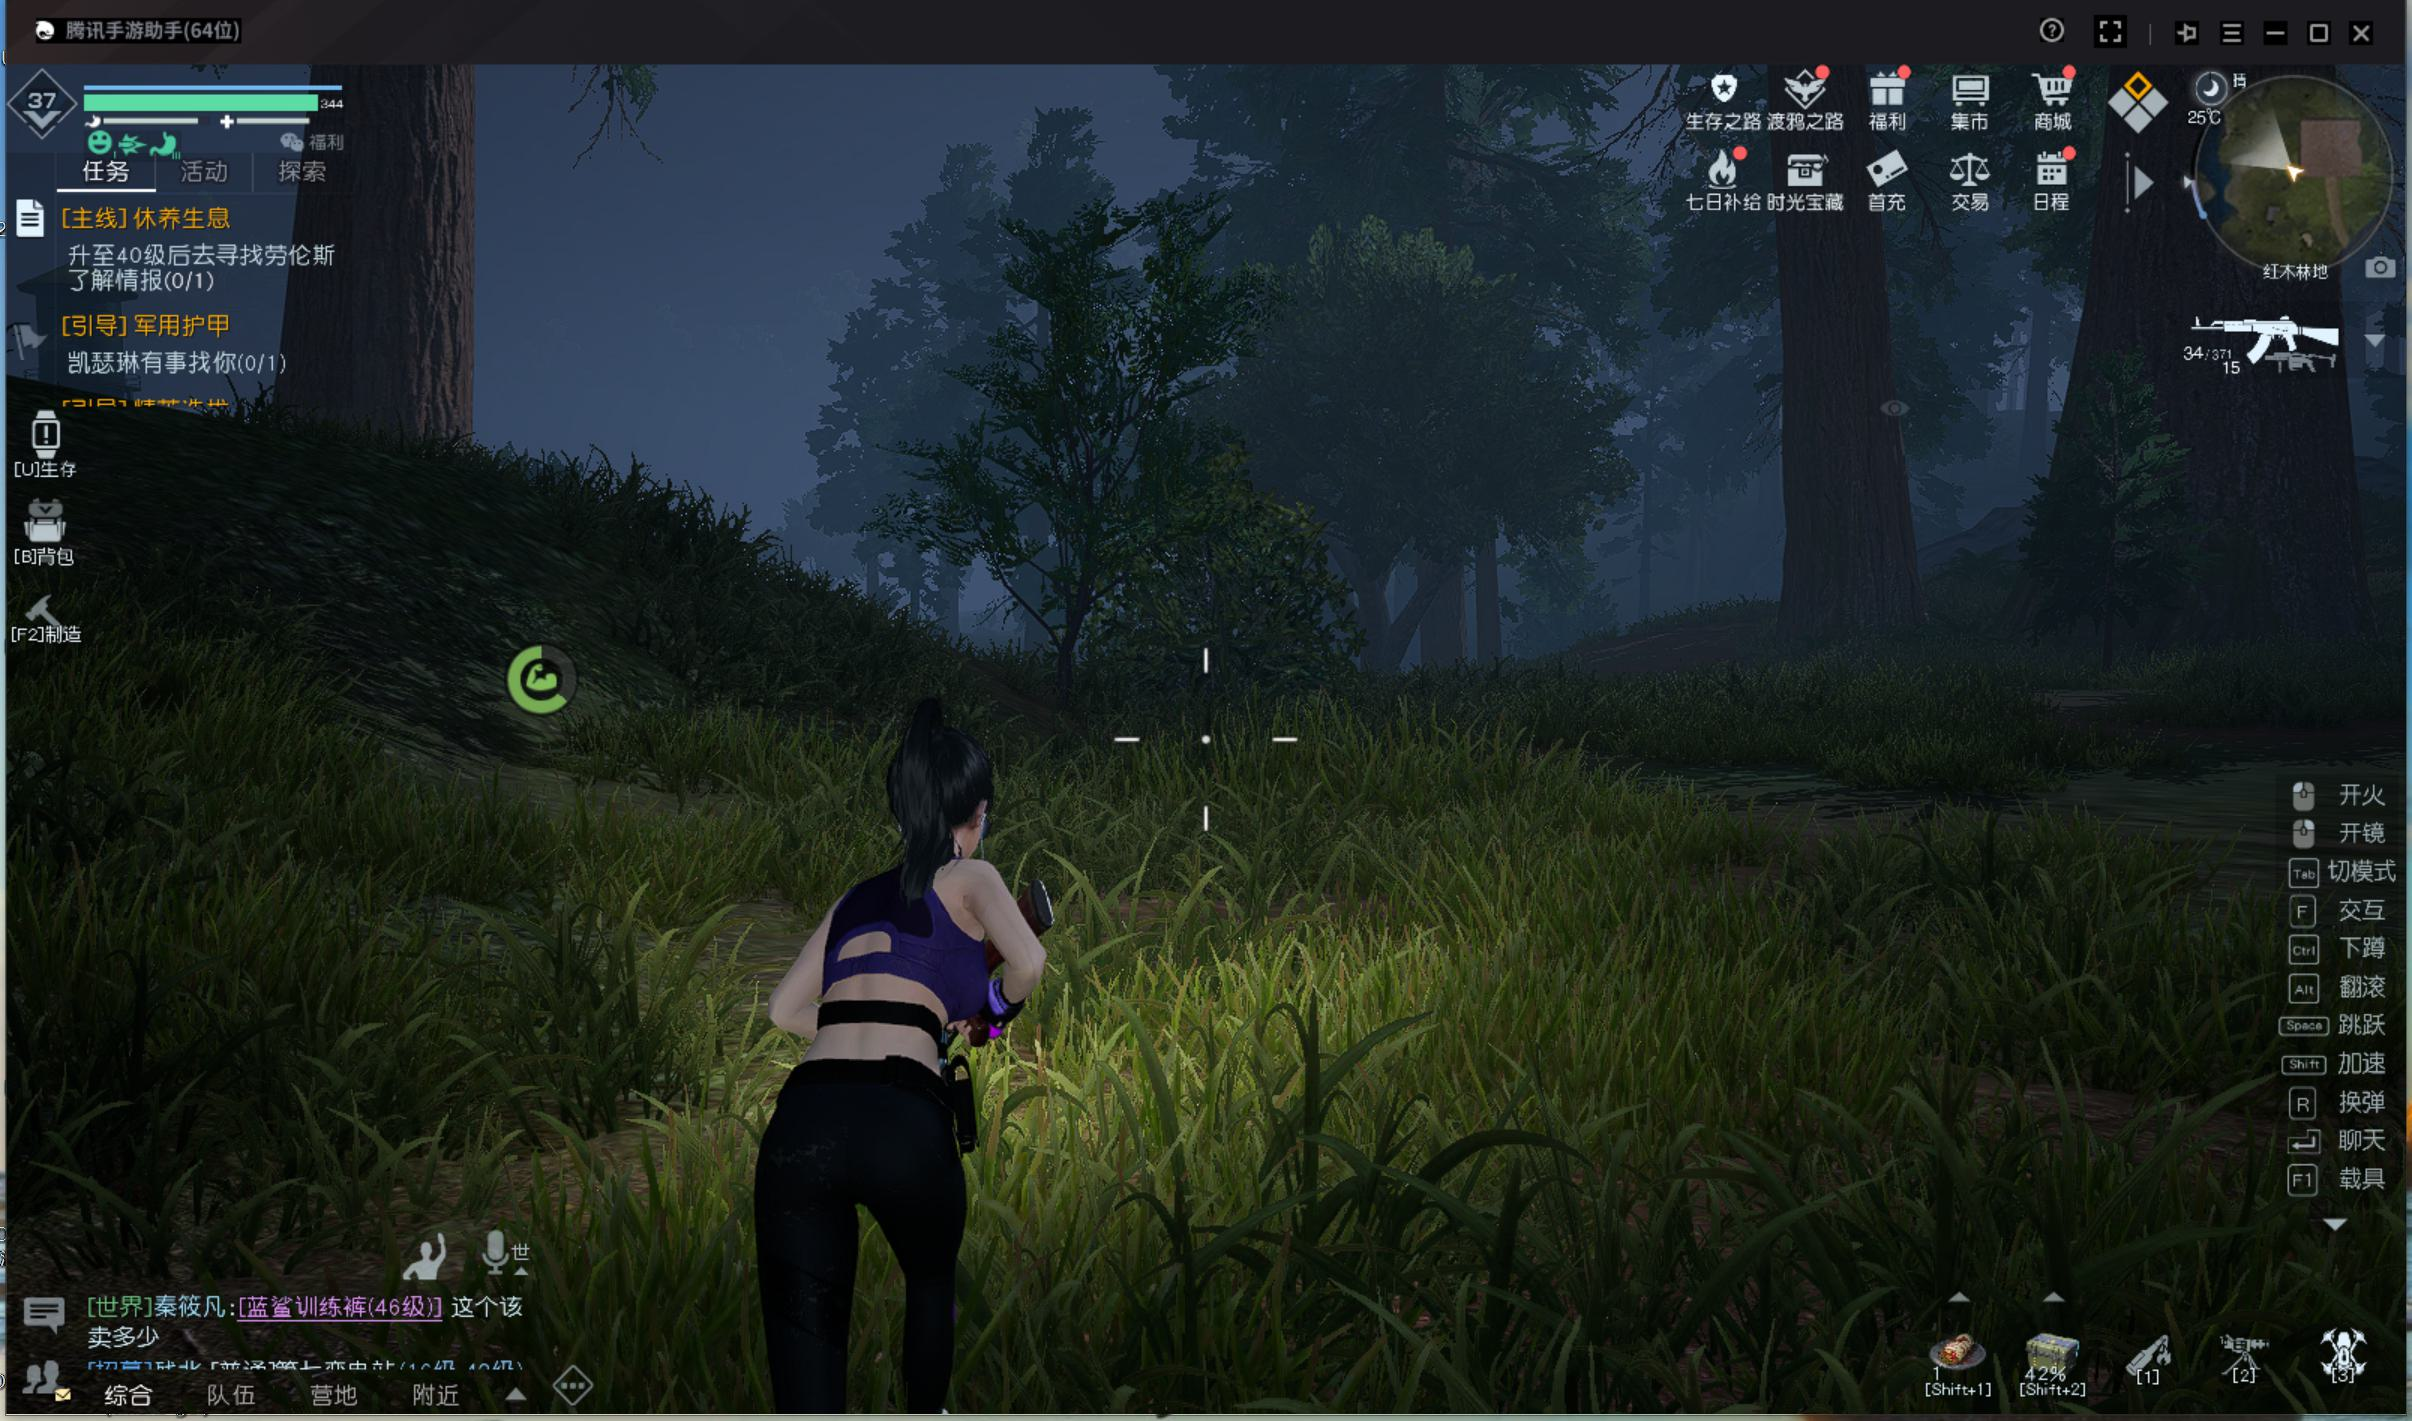tree: (260, 98, 484, 475), (1761, 266, 1937, 673)
